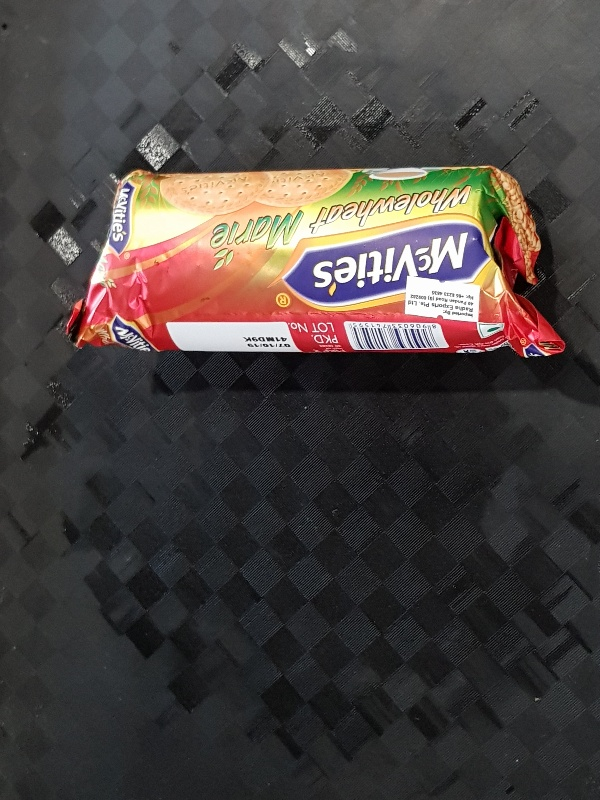McVitie's Wholewheat Marie: (61, 164, 568, 359)
